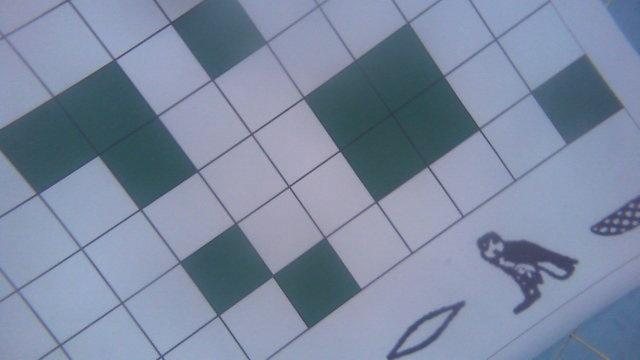Mouth: (381, 297, 469, 360)
Owl: (472, 222, 584, 321)
